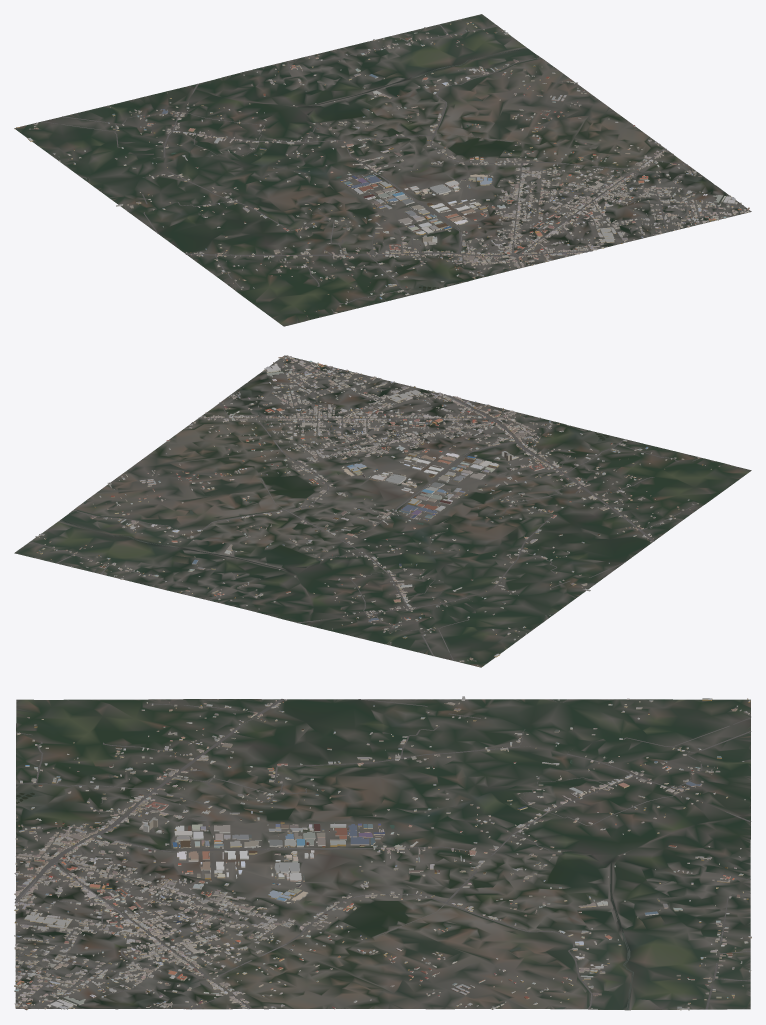
3 views of the same model, one above another, from view 1: azimuth 30°, elevation 25°; view 2: azimuth 150°, elevation 25°; view 3: azimuth 270°, elevation 25° (orthographic). The views are drawn at different scales.
Parts seen in each view (by area): view 1: ground, buildings, roads; view 2: ground, buildings, roads; view 3: ground, buildings, roads, water.
Part boxes in pixels (left/top/right/bottom): ground: left=14, top=14, right=751, bottom=326; buildings: left=15, top=22, right=749, bottom=316; roads: left=38, top=24, right=750, bottom=313; ground: left=14, top=355, right=751, bottom=667; buildings: left=35, top=355, right=719, bottom=666; roads: left=30, top=355, right=701, bottom=662; ground: left=15, top=699, right=750, bottom=1010; buildings: left=14, top=696, right=751, bottom=1010; roads: left=14, top=699, right=751, bottom=1009; water: left=16, top=760, right=633, bottom=1009.
Size of the model in its own units: 5659 by 71.5 by 5626.
